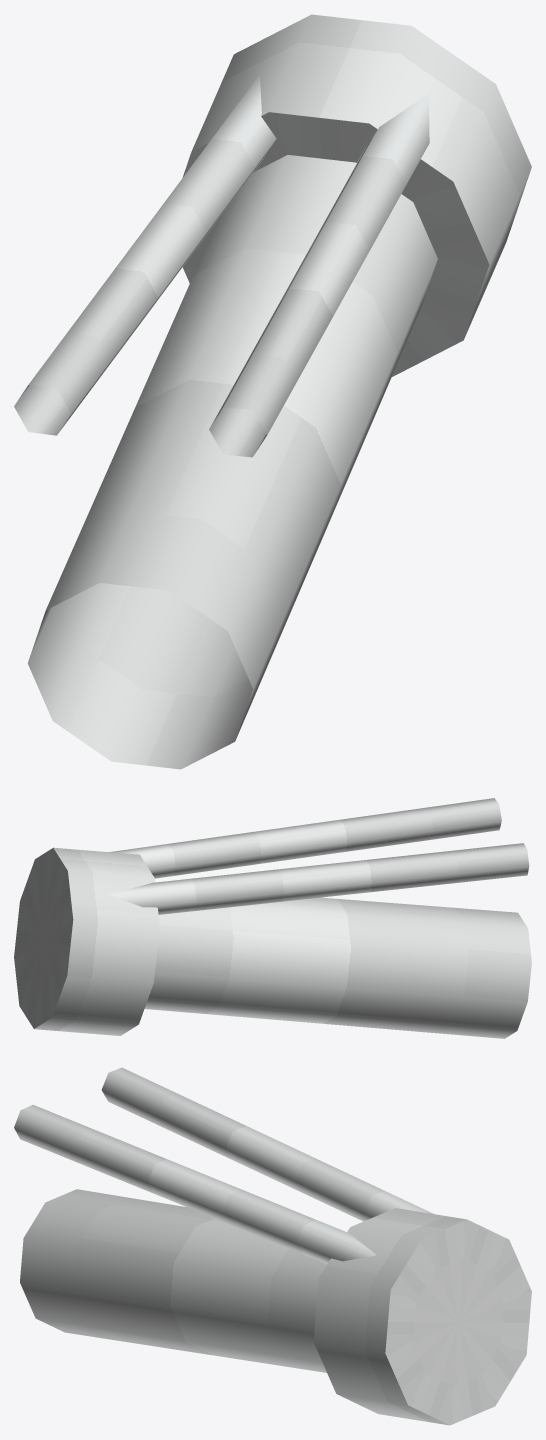
Rendered from nycsignalarm_diagonal12_c25.obj.
3 renders of one model, top to bottom at view 1: azimuth 30°, elevation 25°; view 2: azimuth 150°, elevation 25°; view 3: azimuth 270°, elevation 25°, orthographic. The views are drawn at different scales.
Parts seen in each view (by area): view 1: nycsignalarm_diagonal12_c25; view 2: nycsignalarm_diagonal12_c25; view 3: nycsignalarm_diagonal12_c25.
Part boxes in pixels (x1=…): nycsignalarm_diagonal12_c25: x1=14, y1=14, x2=531, y2=769; nycsignalarm_diagonal12_c25: x1=14, y1=798, x2=531, y2=1038; nycsignalarm_diagonal12_c25: x1=14, y1=1067, x2=531, y2=1425.
Bounding box in the file's own units: 0.8744 × 0.467 × 0.8744.
